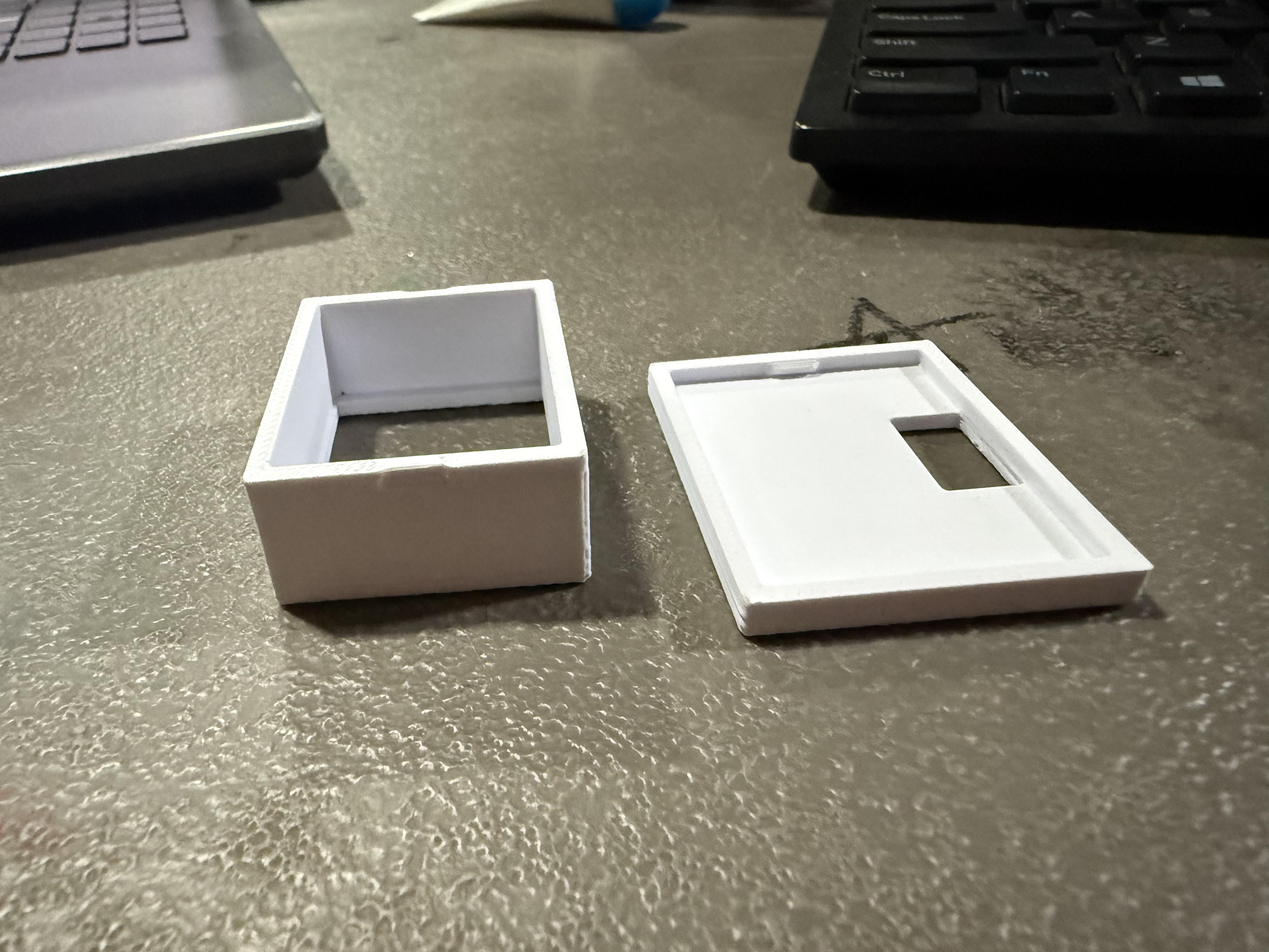enclosure: (640, 335, 1172, 652), (242, 278, 591, 605)
